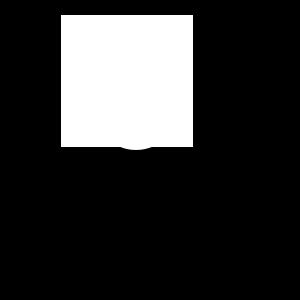circle: (61, 15, 193, 147)
rectangle: (93, 64, 179, 150)
